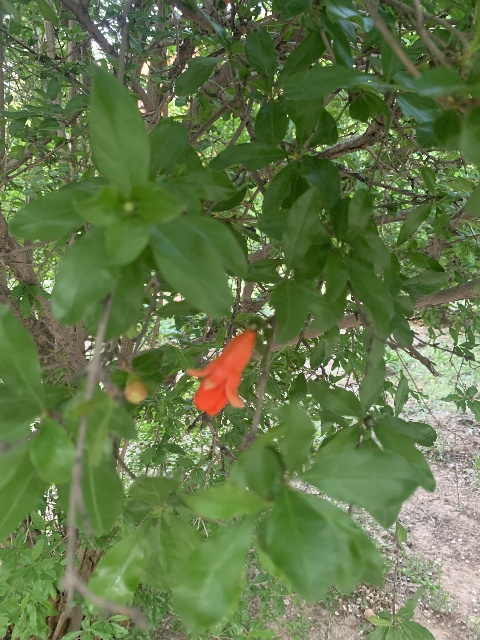bud: (124, 372, 149, 403)
flower: (185, 329, 256, 416)
